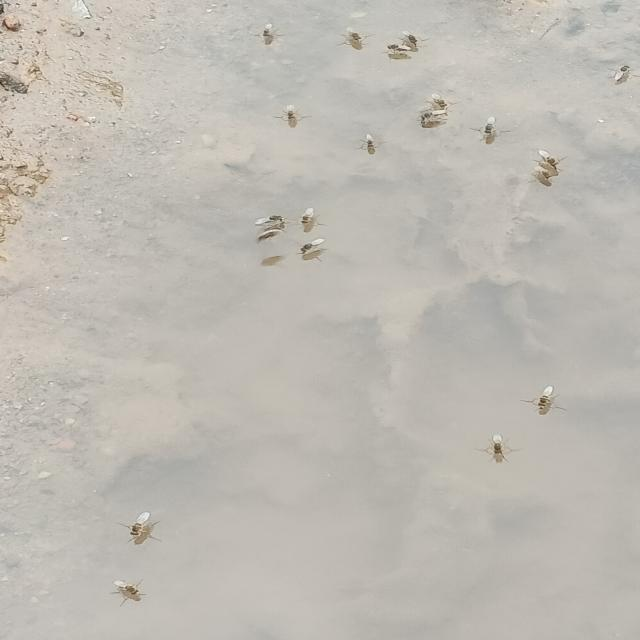Mosquito: (106, 512, 164, 546), (523, 381, 567, 415), (104, 574, 152, 605), (531, 150, 571, 185), (417, 88, 466, 116), (406, 102, 451, 129), (350, 128, 393, 154), (293, 239, 341, 259), (473, 115, 507, 141), (276, 100, 310, 125), (336, 28, 373, 50), (396, 30, 436, 50), (294, 204, 325, 228), (381, 41, 412, 64), (483, 434, 514, 457), (251, 24, 286, 43), (262, 212, 288, 237)
